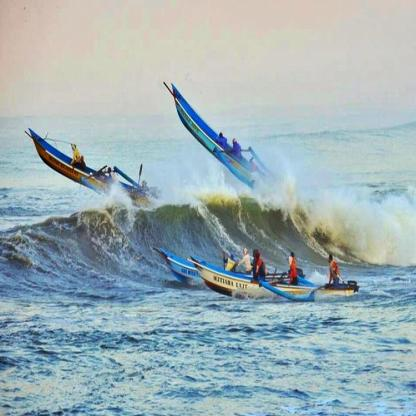boat: (169, 82, 255, 175), (31, 137, 142, 195), (201, 277, 359, 295), (157, 251, 197, 285)
